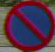No waiting: (3, 2, 52, 47)
